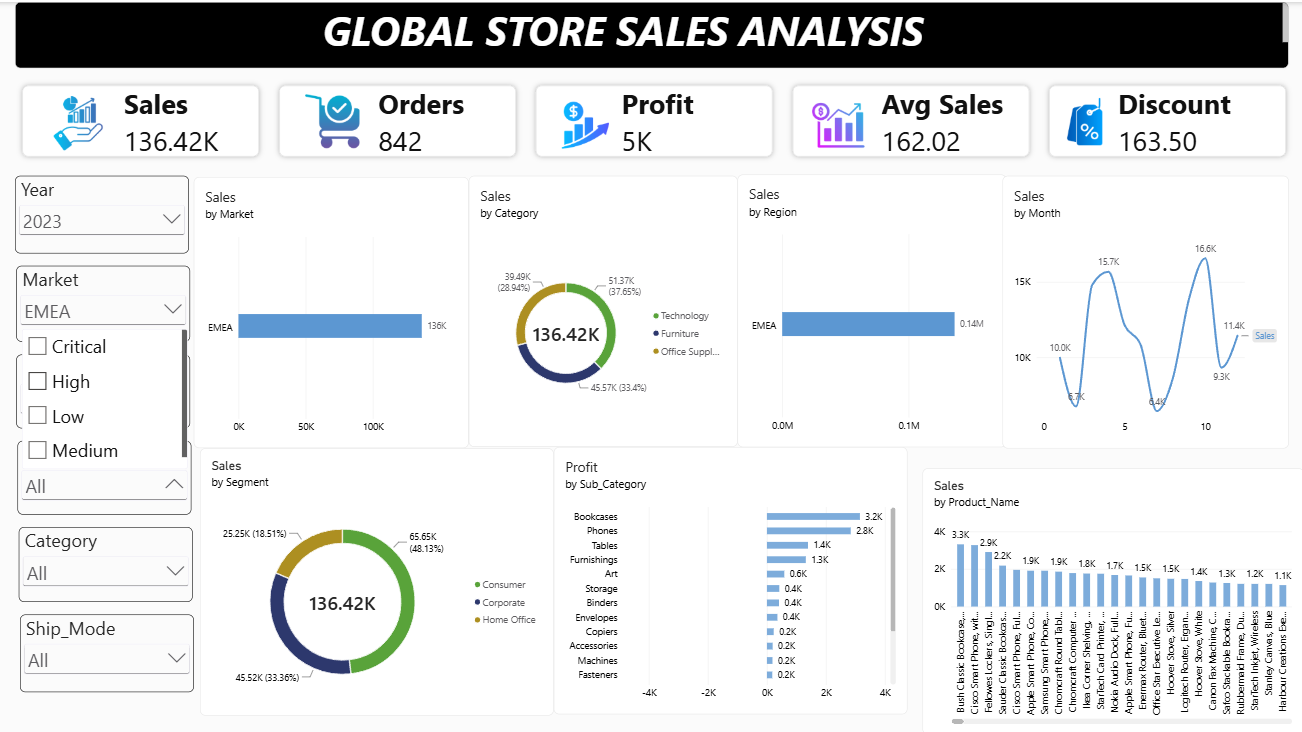

The dashboard page shown, as its layout file describes it:
{"tool":"powerbi","page":{"name":"Page 1","canvas":[1920,1080],"ordinal":4},"visuals":[{"type":"textbox","box":[22.1,0,1875.5,97.5],"z":0},{"type":"slicer","fields":{"Values":["calender.month end date.Variation.Date Hierarchy.Year"]},"box":[22.1,255.8,255.8,114.1],"z":5000},{"type":"slicer","fields":{"Values":["gss_cci.Market"]},"box":[23.9,388.3,255.8,112.3],"z":6000},{"type":"slicer","fields":{"Values":["Orders.Ship_Mode"]},"box":[29.4,901.8,255.8,114.1],"z":7000},{"type":"slicer","fields":{"Values":["gss_cci.Category"]},"box":[27.6,773,255.8,110.4],"z":8000},{"type":"slicer","fields":{"Values":["gss_cci.Order_Priority"]},"box":[25.8,646,255.8,108.6],"z":9000},{"type":"slicer","fields":{"Values":["gss_cci.Region"]},"box":[23.9,519,255.8,108.6],"z":10000},{"type":"cardVisual","fields":{"Data":["MEASURE#.TOTAL SALES","MEASURE#.TOTAL ORDERS","MEASURE#.TOTAL PROFIT","MEASURE#.AVERAGE SALES","MEASURE#.TOTAL DISCOUNT"]},"box":[22.1,112.3,1886.5,127],"z":11000},{"type":"clusteredBarChart","fields":{"Category":["gss_cci.Market"],"Y":["MEASURE#.TOTAL SALES"]},"box":[285.7,257.5,404.9,399.4],"z":21001},{"type":"donutChart","fields":{"Category":["gss_cci.Category"],"Y":["MEASURE#.TOTAL SALES"]},"box":[690.2,255.8,395.7,399.4],"z":21003},{"type":"clusteredBarChart","fields":{"Category":["gss_cci.Region"],"Y":["MEASURE#.TOTAL SALES"]},"box":[1085.9,255.8,395.7,401.2],"z":21006},{"type":"lineChart","fields":{"Category":["calender.FY MONTH"],"Y":["MEASURE#.TOTAL SALES"]},"box":[1476.1,255.8,421.5,401.2],"z":21007},{"type":"clusteredBarChart","fields":{"Category":["gss_cci.Sub_Category"],"Y":["Sum(gss_cci.Profit)"]},"box":[815.3,655.2,520.9,393.9],"z":21008},{"type":"donutChart","fields":{"Category":["gss_cci.Segment"],"Y":["MEASURE#.TOTAL SALES"]},"box":[294.3,657.9,520.9,393.9],"z":21009},{"type":"clusteredColumnChart","fields":{"Category":["gss_cci.Product_Name"],"Y":["Sum(gss_cci.Sales)"]},"box":[1336.2,657.1,561.4,393.9],"z":21010}]}

Visuals, with their boxes in screenshot pixels (x1, y1, x2, y2), scaled from the page's 1920x1080 canvas onto the 1302x732 screenshot:
textbox: (15, 0, 1287, 66)
slicer - calender.month end date.Variation.Date Hierarchy.Year: (15, 173, 188, 251)
slicer - gss_cci.Market: (16, 263, 190, 339)
slicer - Orders.Ship_Mode: (20, 611, 193, 689)
slicer - gss_cci.Category: (19, 524, 192, 599)
slicer - gss_cci.Order_Priority: (17, 438, 191, 511)
slicer - gss_cci.Region: (16, 352, 190, 425)
cardVisual - MEASURE#.TOTAL SALES x MEASURE#.TOTAL ORDERS: (15, 76, 1294, 162)
clusteredBarChart - gss_cci.Market x MEASURE#.TOTAL SALES: (194, 175, 468, 445)
donutChart - gss_cci.Category x MEASURE#.TOTAL SALES: (468, 173, 736, 444)
clusteredBarChart - gss_cci.Region x MEASURE#.TOTAL SALES: (736, 173, 1005, 445)
lineChart - calender.FY MONTH x MEASURE#.TOTAL SALES: (1001, 173, 1287, 445)
clusteredBarChart - gss_cci.Sub_Category x Sum(gss_cci.Profit): (553, 444, 906, 711)
donutChart - gss_cci.Segment x MEASURE#.TOTAL SALES: (200, 446, 553, 713)
clusteredColumnChart - gss_cci.Product_Name x Sum(gss_cci.Sales): (906, 445, 1287, 712)
